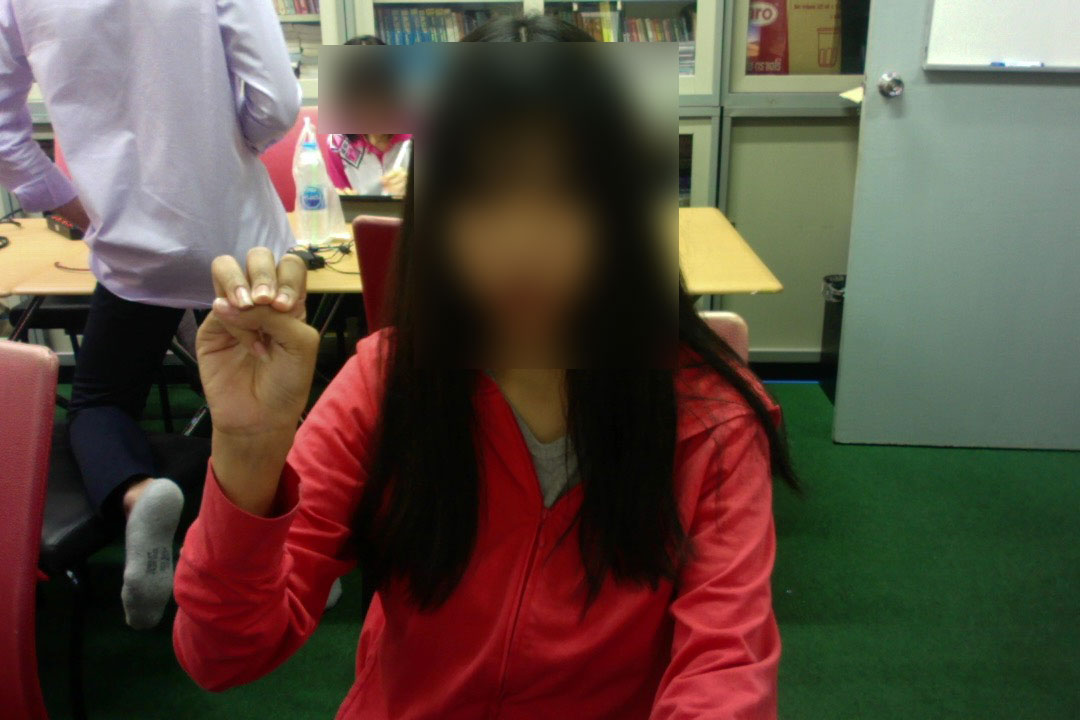mor: (193, 237, 323, 448)
